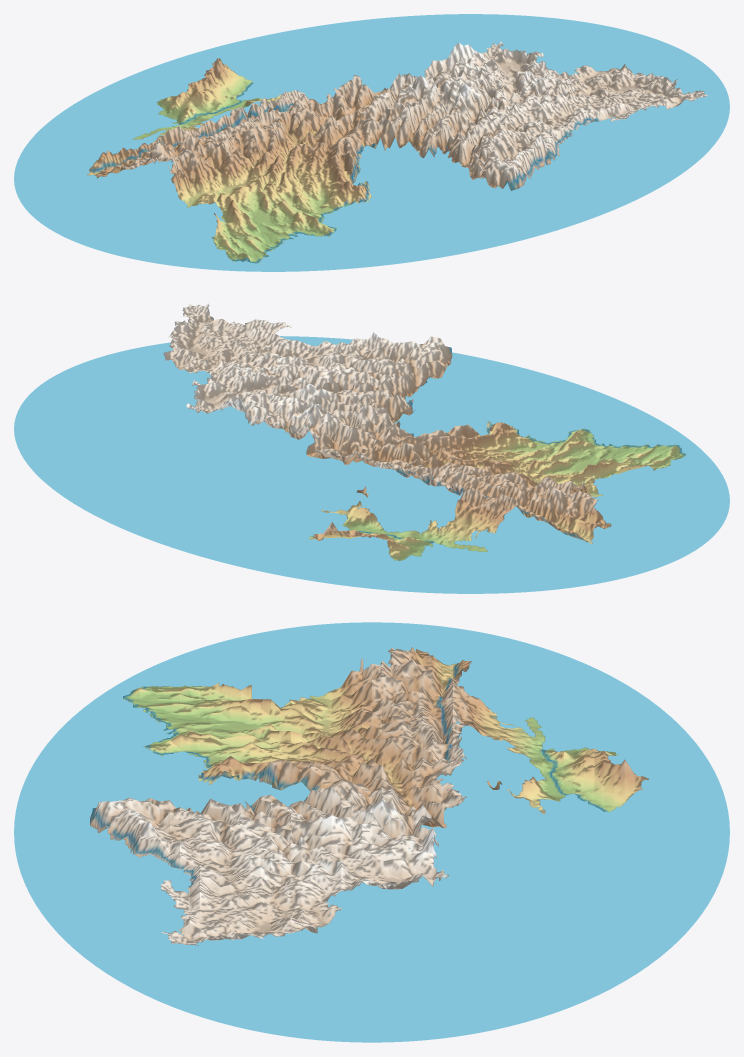
The model's file is TJK-terrain.glb.
3 renders of one model, top to bottom at view 1: azimuth 30°, elevation 25°; view 2: azimuth 150°, elevation 25°; view 3: azimuth 270°, elevation 25°, orthographic. The views are drawn at different scales.
Parts seen in each view (by area): view 1: Relevo com hidrografia; view 2: Relevo com hidrografia; view 3: Relevo com hidrografia.
Part boxes in pixels (x1=…): Relevo com hidrografia: x1=14, y1=14, x2=729, y2=271; Relevo com hidrografia: x1=14, y1=303, x2=729, y2=593; Relevo com hidrografia: x1=14, y1=622, x2=729, y2=1042.
Size of the model in its own units: 2.05 by 0.1689 by 1.48.
Materials: 2 (1 with a texture image).
